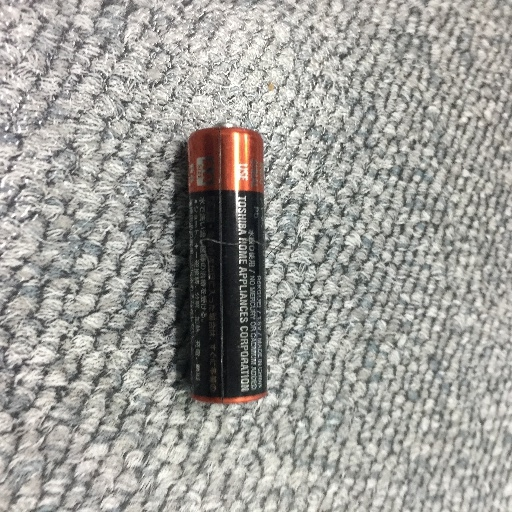Battery_0: (163, 108, 292, 421)
